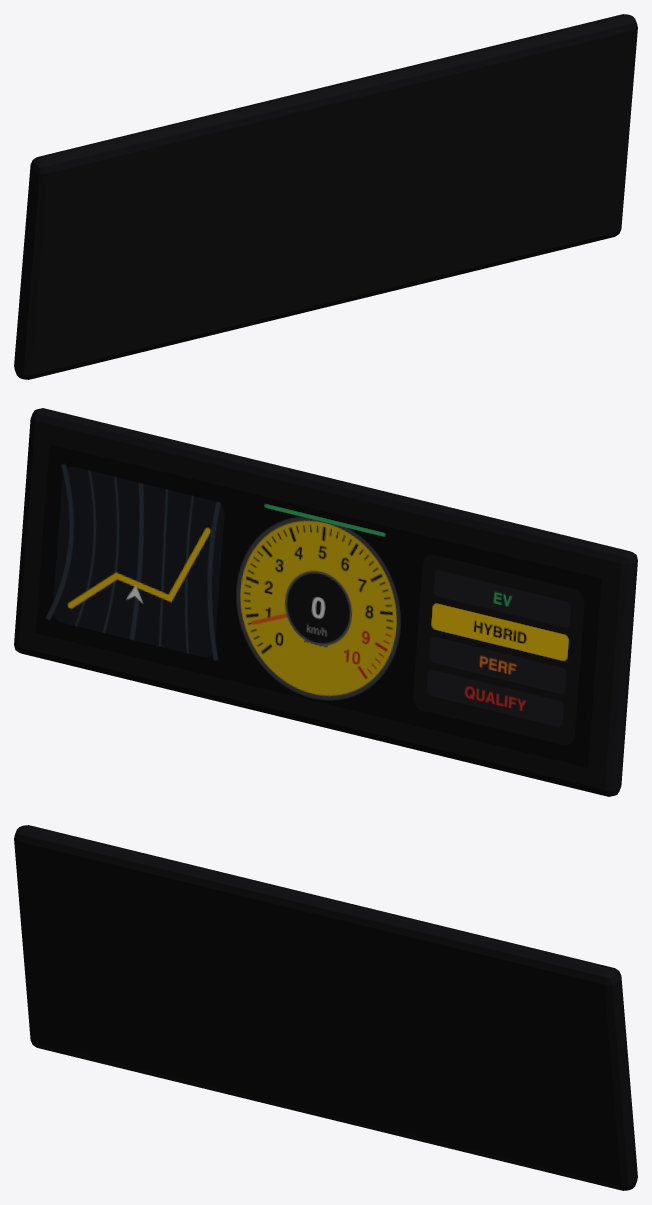
Rendered from cab_sf90.glb.
3 renders of one model, top to bottom at view 1: azimuth 30°, elevation 25°; view 2: azimuth 150°, elevation 25°; view 3: azimuth 330°, elevation 25°, orthographic.
Parts seen in each view (by area): view 1: cluster_frame; view 2: cluster_lcd, cluster_frame; view 3: cluster_frame.
Boxes of the visible parts, x1,y1,x2,y2 form: cluster_frame: [14, 14, 637, 379]; cluster_lcd: [35, 444, 601, 767]; cluster_frame: [14, 408, 637, 796]; cluster_frame: [14, 825, 637, 1190].
Size of the model in its own units: 0.284 by 0.1045 by 0.0234.
2 materials, 1 textured.
